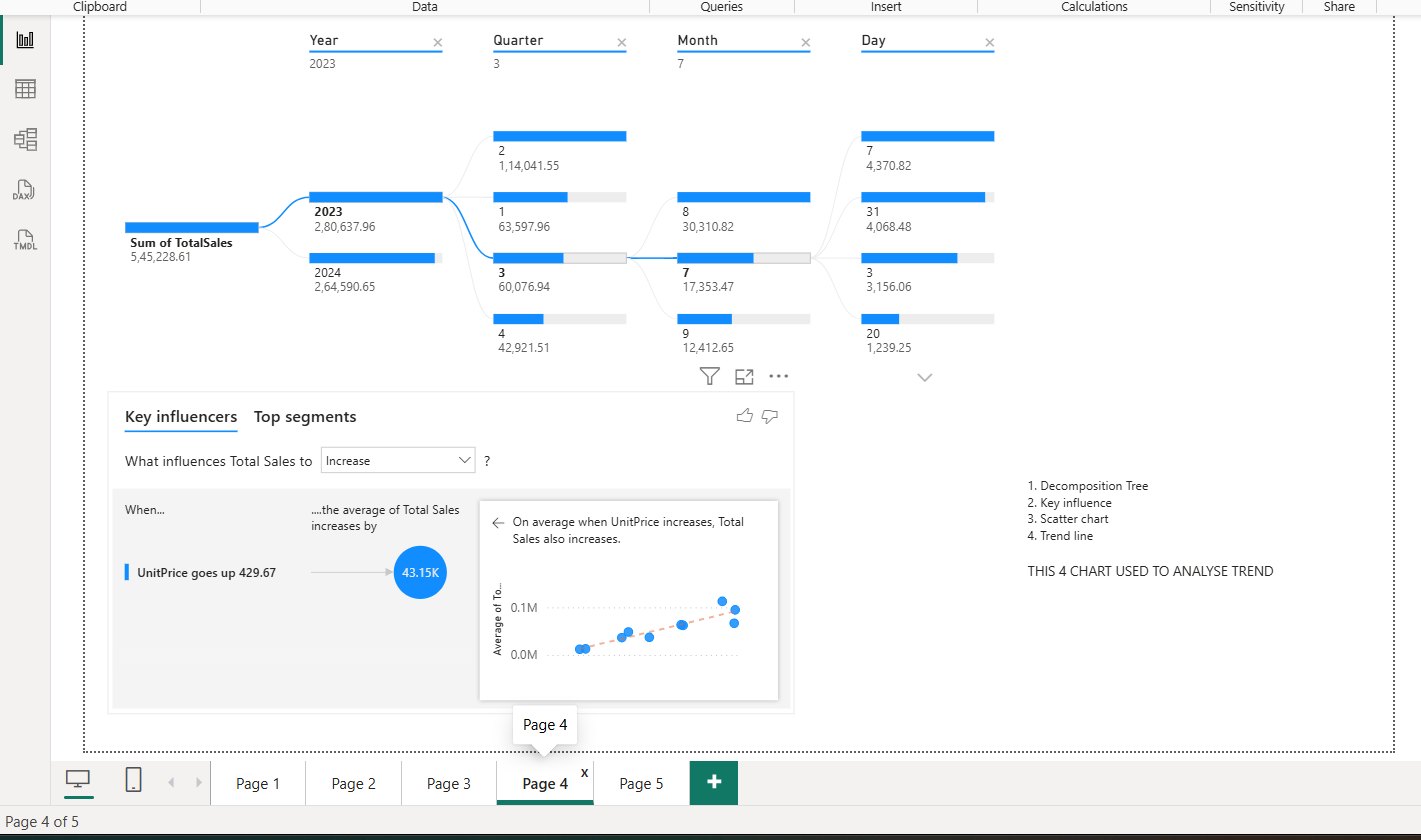

The dashboard page shown, as its layout file describes it:
{"tool":"powerbi","page":{"name":"Page 4","canvas":[1280,720],"ordinal":3},"visuals":[{"type":"decompositionTreeVisual","fields":{"Analyze":["Sum(Fact_Sales.TotalSales)"],"ExplainBy":["Dim_Date.Year Hierarchy.Year","Dim_Date.Year Hierarchy.Quarter","Dim_Date.Year Hierarchy.Month","Dim_Date.Year Hierarchy.Day"]},"box":[10,0,930,394.3],"z":0},{"type":"keyDriversVisual","fields":{"Target":["Fact_Sales.Total Sales"],"ExplainBy":["Dim_Products.UnitPrice"]},"box":[22,368.1,672.9,315.7],"z":1000},{"type":"textbox","box":[917.1,447.1,362.9,272.9],"z":2000}]}

Visuals, with their boxes on the page's 1280x720 design canvas (x1, y1, x2, y2). These are canvas units, not pixel positions in the 1421x840 screenshot, which may show the page scaled, cropped or inside an application window:
decompositionTreeVisual - Sum(Fact_Sales.TotalSales) x Dim_Date.Year Hierarchy.Year: bbox=[10, 0, 940, 394]
keyDriversVisual - Fact_Sales.Total Sales x Dim_Products.UnitPrice: bbox=[22, 368, 695, 684]
textbox: bbox=[917, 447, 1280, 720]
